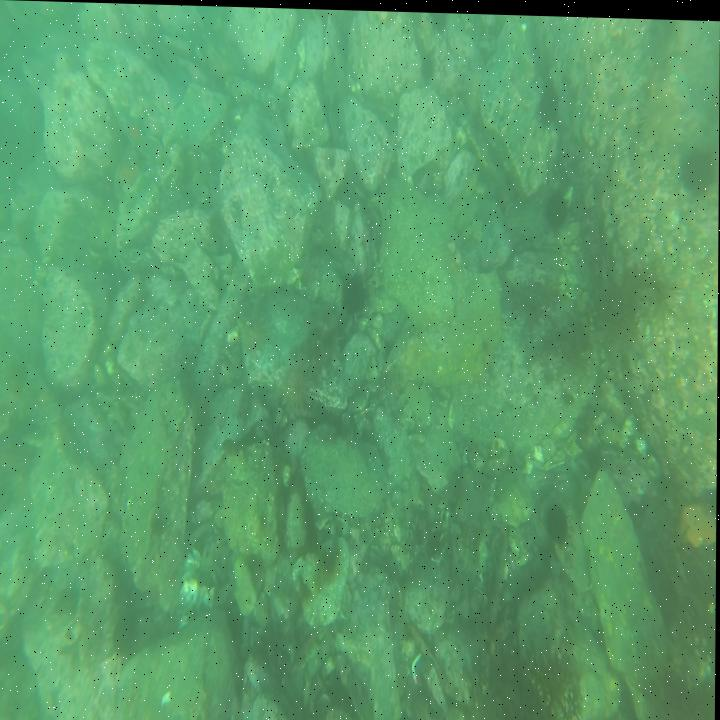echinus: (678, 138, 719, 193), (336, 261, 373, 317), (544, 496, 575, 548), (542, 180, 573, 231), (537, 80, 564, 132)
